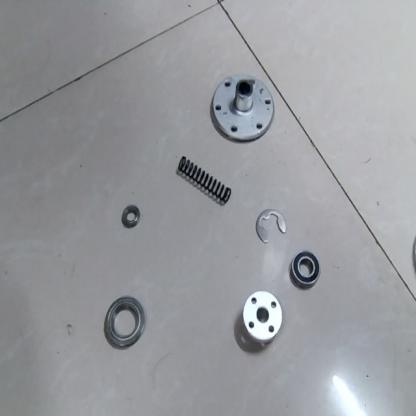FOD: (210, 71, 276, 141), (174, 154, 235, 206), (100, 294, 146, 352), (239, 294, 283, 346), (252, 207, 289, 248), (289, 251, 323, 288), (120, 203, 140, 230)
